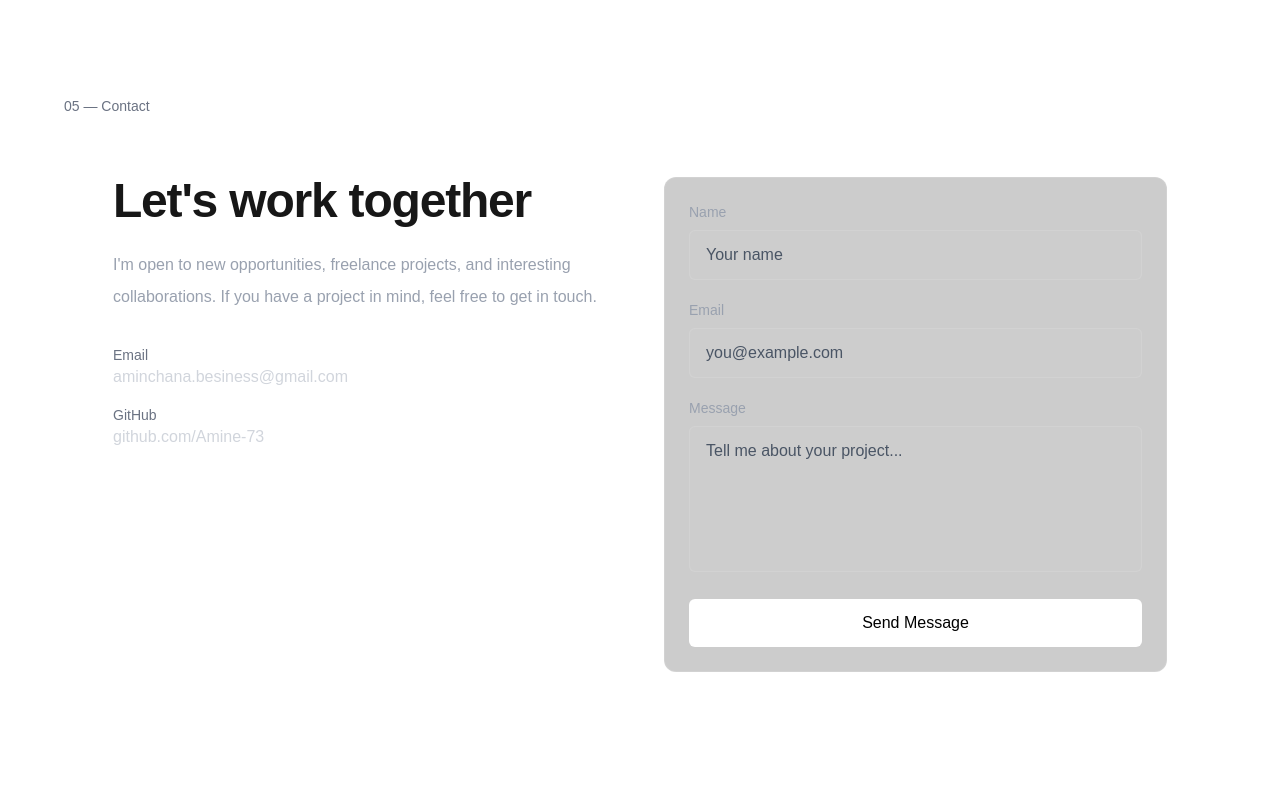
Contact form › shows a success message after successful submission
Type "Test User" into the field labelled "Name". click: [916, 255]
box: top-left (689, 230), bottom-right (1142, 280)
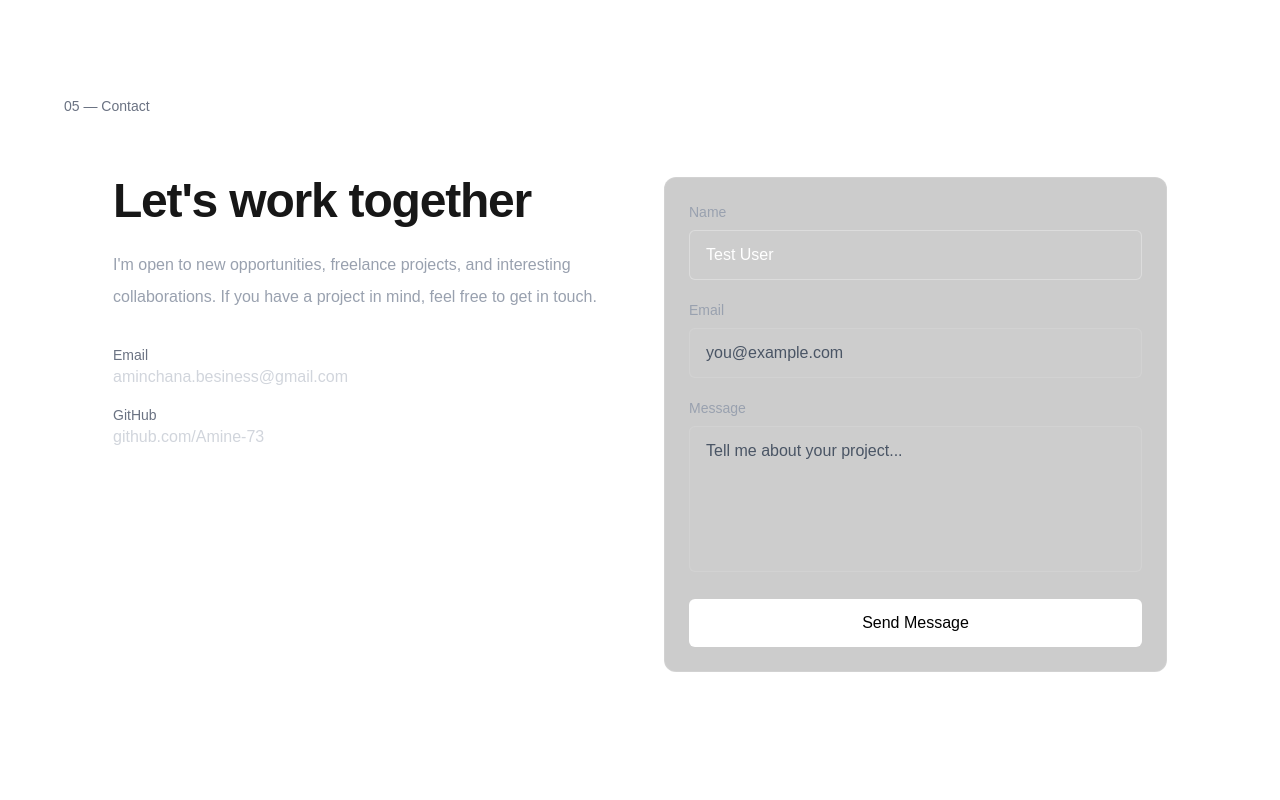
Type "test@example.com" into the field labelled "Email". click: [916, 353]
box: top-left (689, 328), bottom-right (1142, 378)
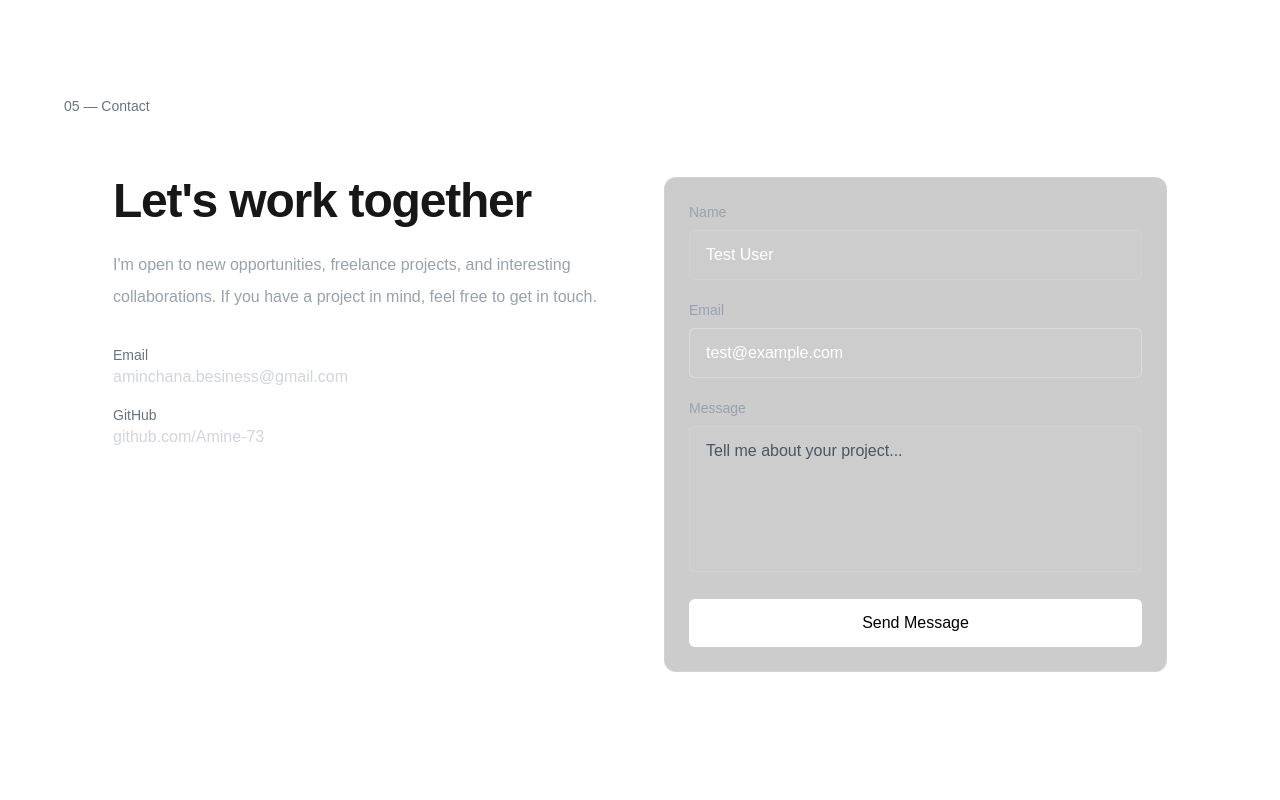
Type "Hello there" into the text box labelled "Message". click: [916, 499]
box: top-left (689, 426), bottom-right (1142, 572)
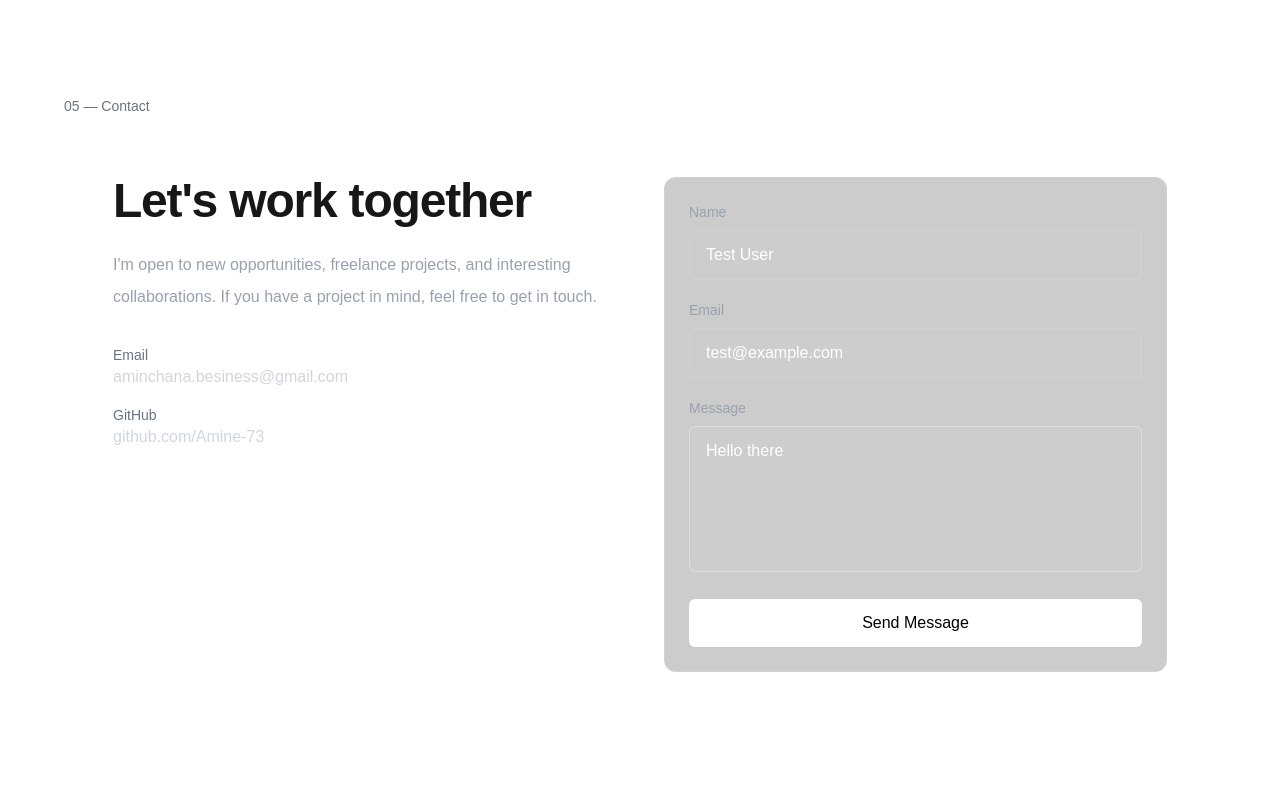
Click the button "Send Message". click: [916, 623]
box: top-left (689, 599), bottom-right (1142, 647)
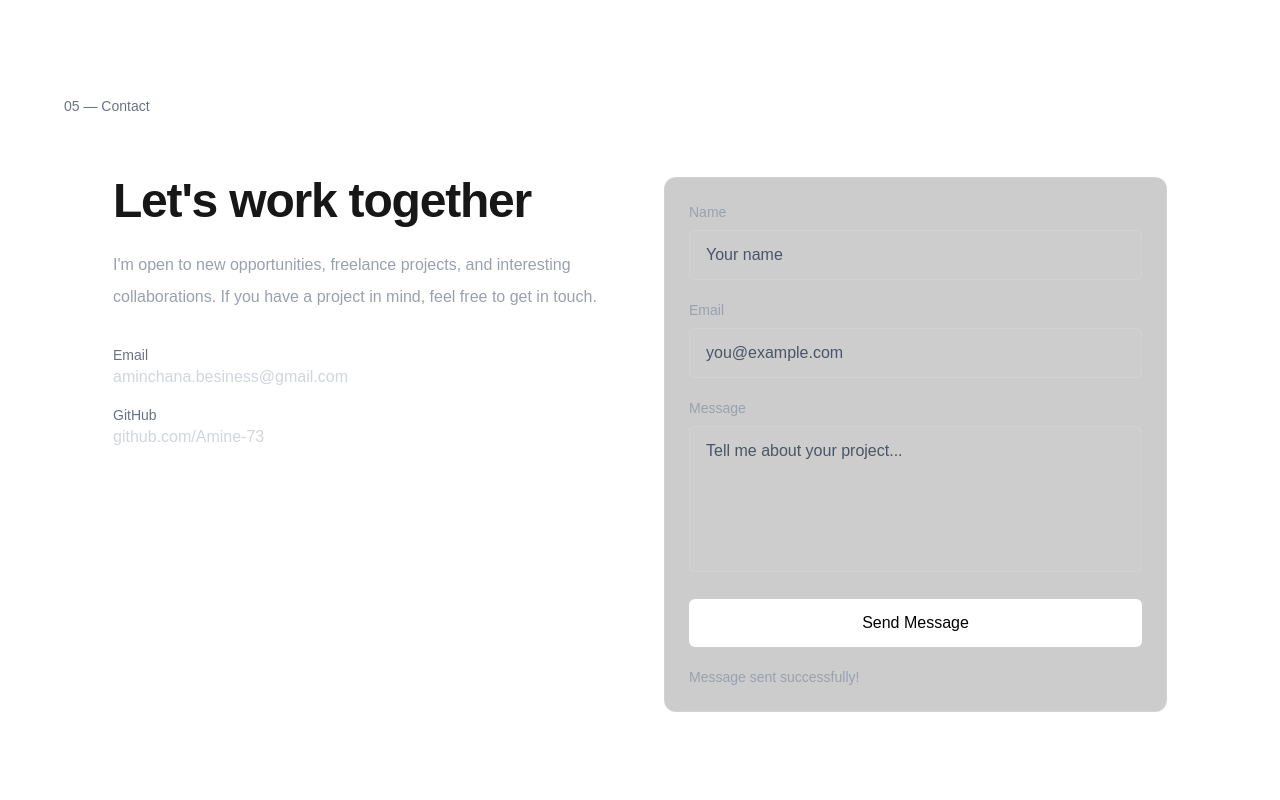
Now the text "Message sent successfully!" is shown, box top-left (689, 669), bottom-right (859, 685)
